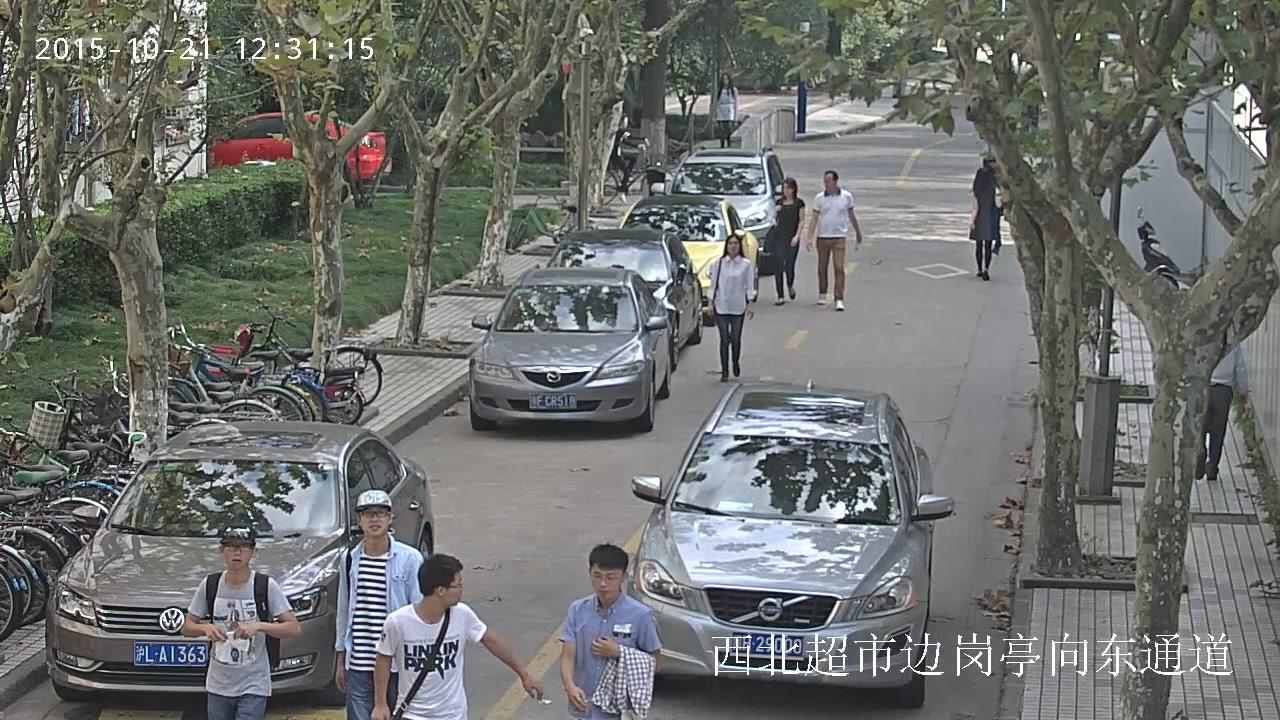face: (589, 563, 621, 599), (360, 506, 388, 534), (224, 544, 251, 568), (444, 574, 462, 607), (824, 172, 835, 190), (727, 239, 739, 255), (783, 182, 792, 197), (722, 74, 727, 83)
